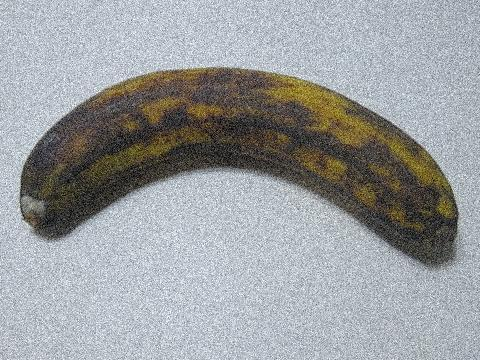overripe: (12, 46, 469, 295)
